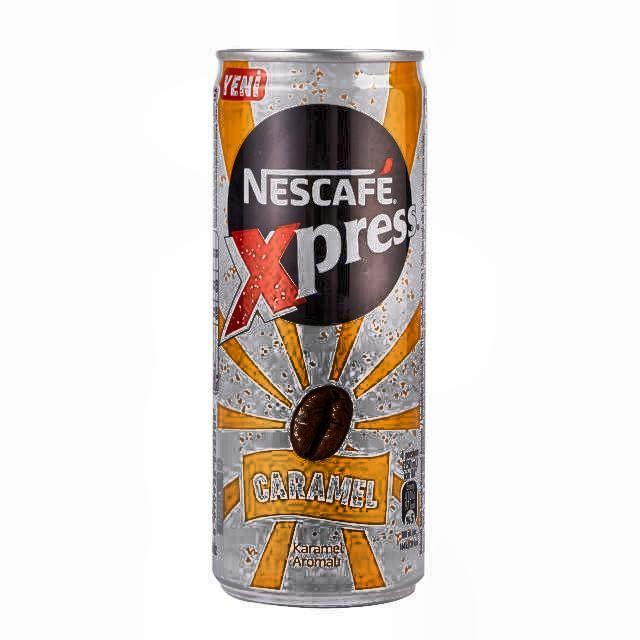metal: (210, 47, 426, 613)
